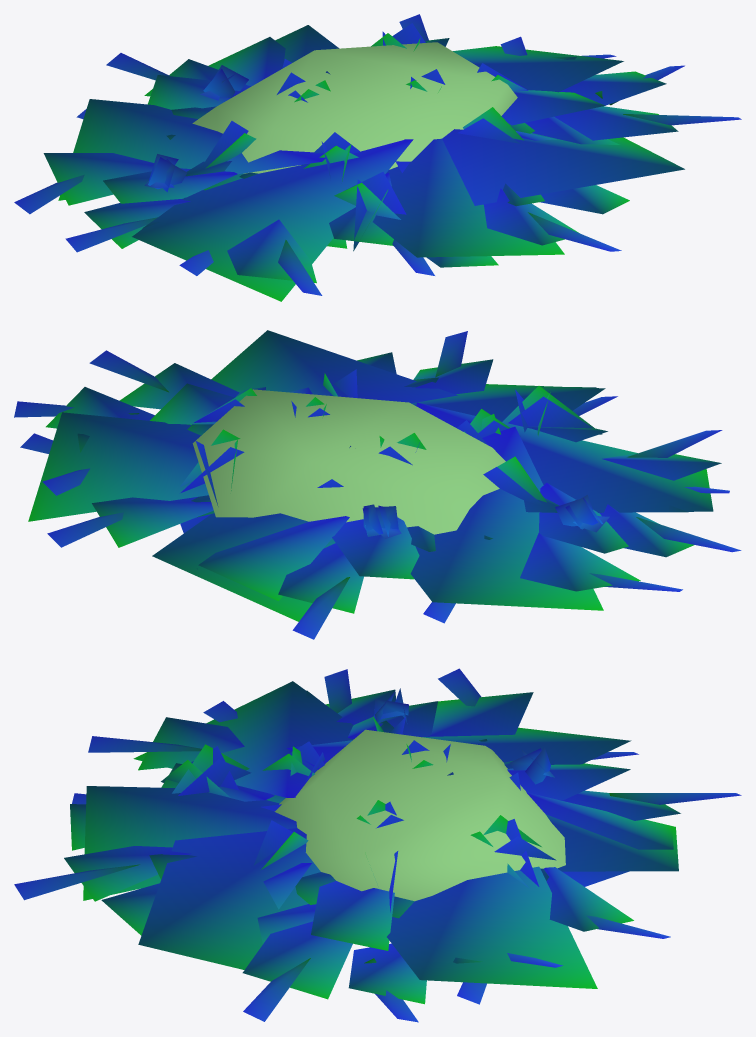
File: vine_bush_wide_b.dae
3 renders of one model, top to bottom at view 1: azimuth 30°, elevation 25°; view 2: azimuth 150°, elevation 25°; view 3: azimuth 270°, elevation 25°, orthographic. The views are drawn at different scales.
Visible parts, largest first — view 1: vine_bush_wide_b_40, vine_bush_wide_b_a200, colmesh_vine_bush_wide_b-1, vine_bush_wide_b_a300; view 2: vine_bush_wide_b_40, vine_bush_wide_b_a200, colmesh_vine_bush_wide_b-1, vine_bush_wide_b_a300; view 3: vine_bush_wide_b_40, vine_bush_wide_b_a200, colmesh_vine_bush_wide_b-1, vine_bush_wide_b_a300.
Part boxes in pixels (box(x1,y1,x2,y2)): vine_bush_wide_b_40: box(58, 25, 684, 301); vine_bush_wide_b_a200: box(44, 23, 678, 283); colmesh_vine_bush_wide_b-1: box(192, 42, 517, 173); vine_bush_wide_b_a300: box(14, 14, 741, 295); vine_bush_wide_b_40: box(28, 330, 713, 621); vine_bush_wide_b_a200: box(46, 352, 721, 613); colmesh_vine_bush_wide_b-1: box(192, 389, 505, 534); vine_bush_wide_b_a300: box(14, 331, 741, 639); vine_bush_wide_b_40: box(83, 681, 678, 988); vine_bush_wide_b_a200: box(64, 689, 680, 1004); colmesh_vine_bush_wide_b-1: box(274, 729, 565, 901); vine_bush_wide_b_a300: box(14, 668, 741, 1022).
Bounding box in the file's own units: 8.6 × 7.55 × 1.12.
